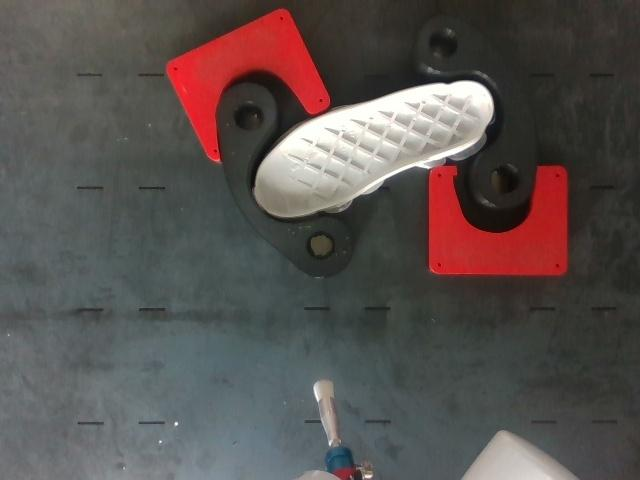shoes: (256, 82, 493, 216)
